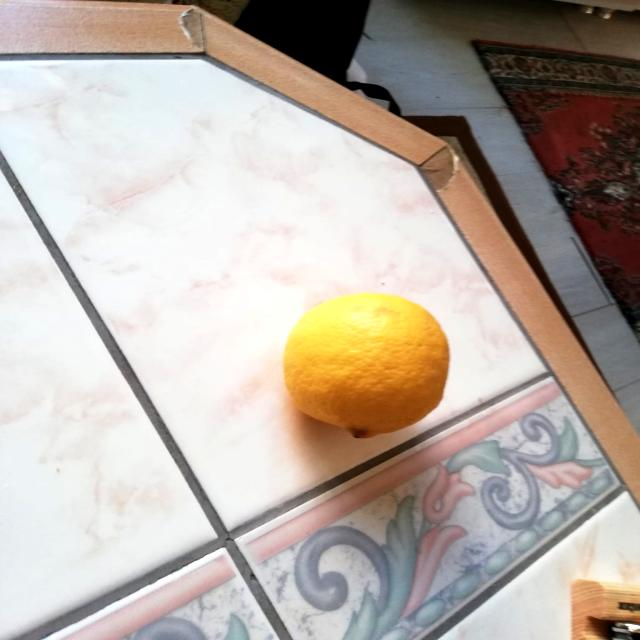lemon: (280, 287, 458, 447)
